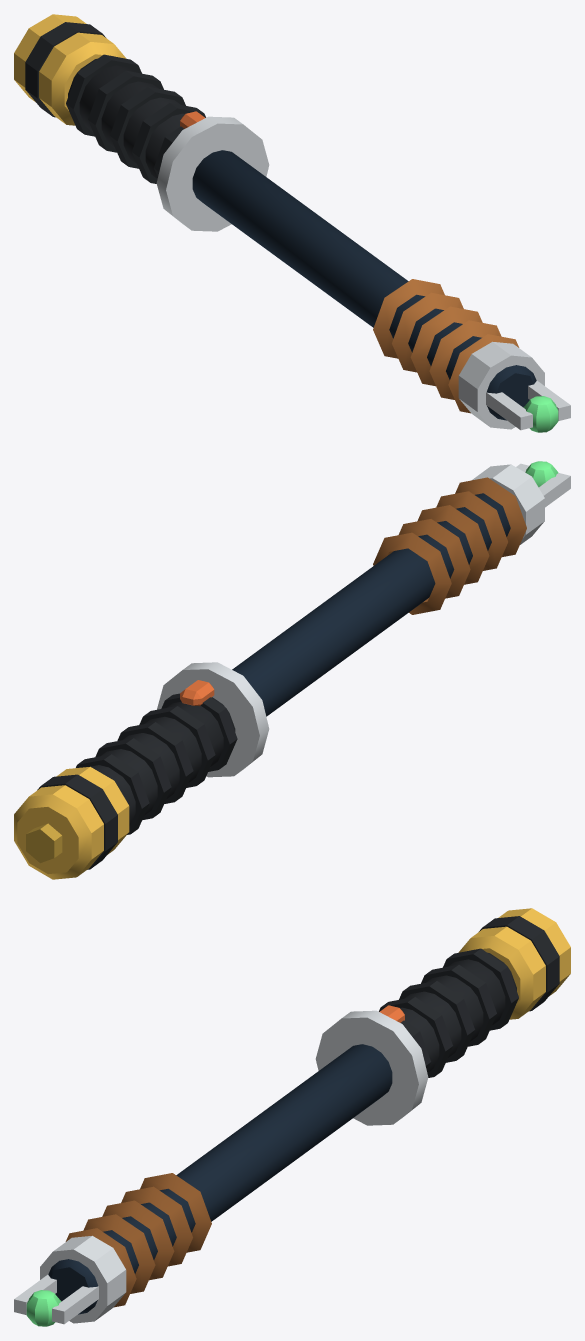
The model's file is Weapon_ShockBaton.fbx.
The picture shows the model from 3 angles, top to bottom: view 1: azimuth 30°, elevation 25°; view 2: azimuth 150°, elevation 25°; view 3: azimuth 330°, elevation 25°; orthographic projection.
Visible parts, largest first — view 1: Baton, Spark; view 2: Baton, Spark; view 3: Baton, Spark.
Boxes of the visible parts, x1,y1,x2,y2 form: Baton: (14,14,570,430); Spark: (523,396,558,432); Baton: (14,463,570,879); Spark: (525,461,558,487); Baton: (14,908,570,1324); Spark: (26,1290,61,1326).
Bounding box in the file's own units: 0.38 × 0.38 × 3.25.
